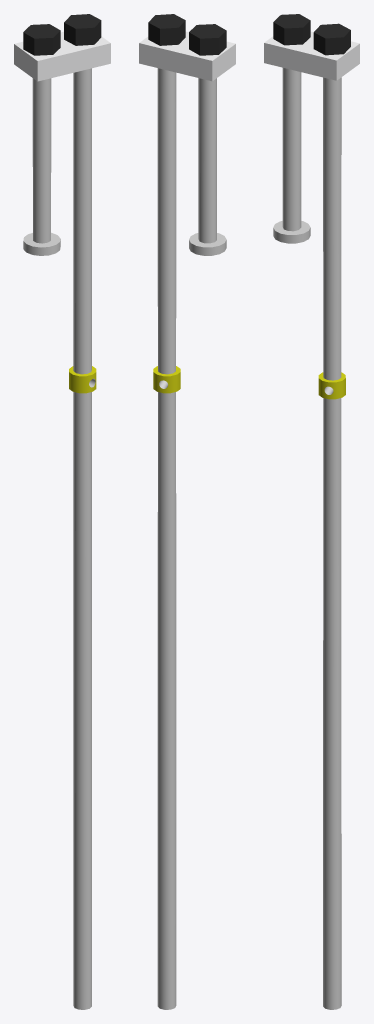
Rendered from sodokan.obj.
The picture shows the model from 3 angles, left to right: view 1: azimuth 30°, elevation 25°; view 2: azimuth 150°, elevation 25°; view 3: azimuth 330°, elevation 25°; orthographic projection.
Visible parts, largest first — view 1: Solid1; view 2: Solid1; view 3: Solid1.
Part boxes in pixels (<box>): Solid1: <box>14,14,110,1009</box>; Solid1: <box>139,14,235,1009</box>; Solid1: <box>264,14,359,1009</box>.
Size of the model in its own units: 1.77 by 22.72 by 0.9843.
